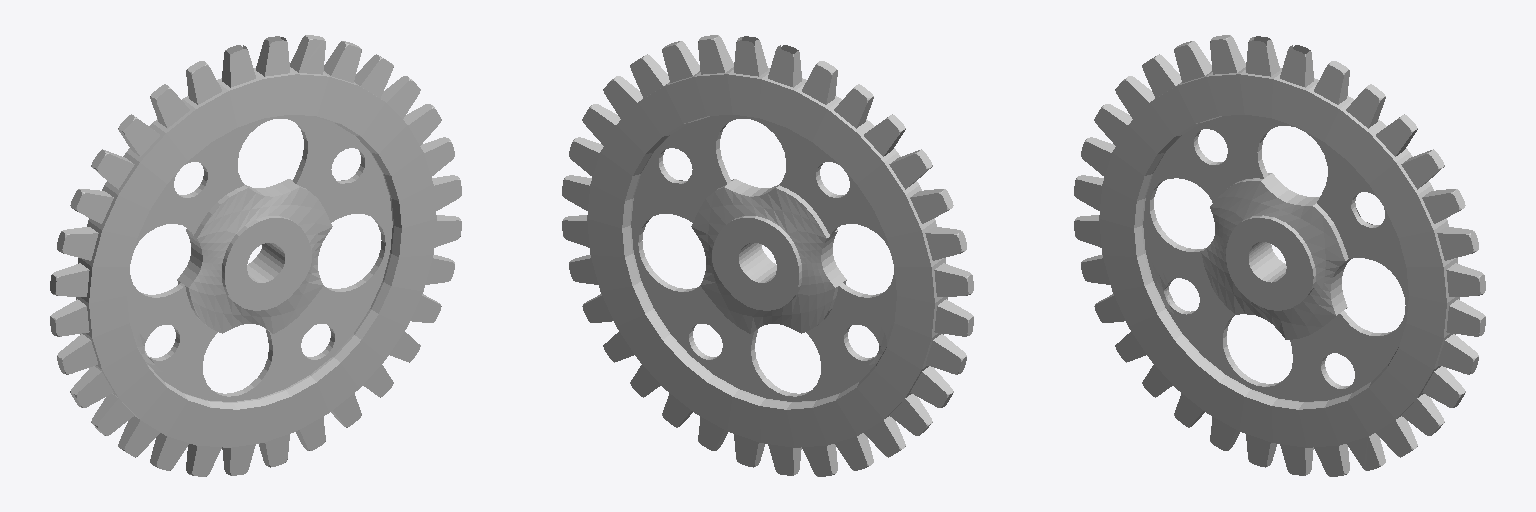
The model's file is gear9.obj.
3 views of the same model, side by side, from view 1: azimuth 30°, elevation 25°; view 2: azimuth 150°, elevation 25°; view 3: azimuth 330°, elevation 25° (orthographic).
Visible parts, largest first — view 1: Cylinder.021_Cylinder.036; view 2: Cylinder.021_Cylinder.036; view 3: Cylinder.021_Cylinder.036.
Part boxes in pixels (x1,y1,x2,y2): Cylinder.021_Cylinder.036: (50, 35, 461, 476); Cylinder.021_Cylinder.036: (562, 35, 973, 476); Cylinder.021_Cylinder.036: (1074, 35, 1485, 476).
Bounding box in the file's own units: 2.93 × 2.93 × 0.2831.